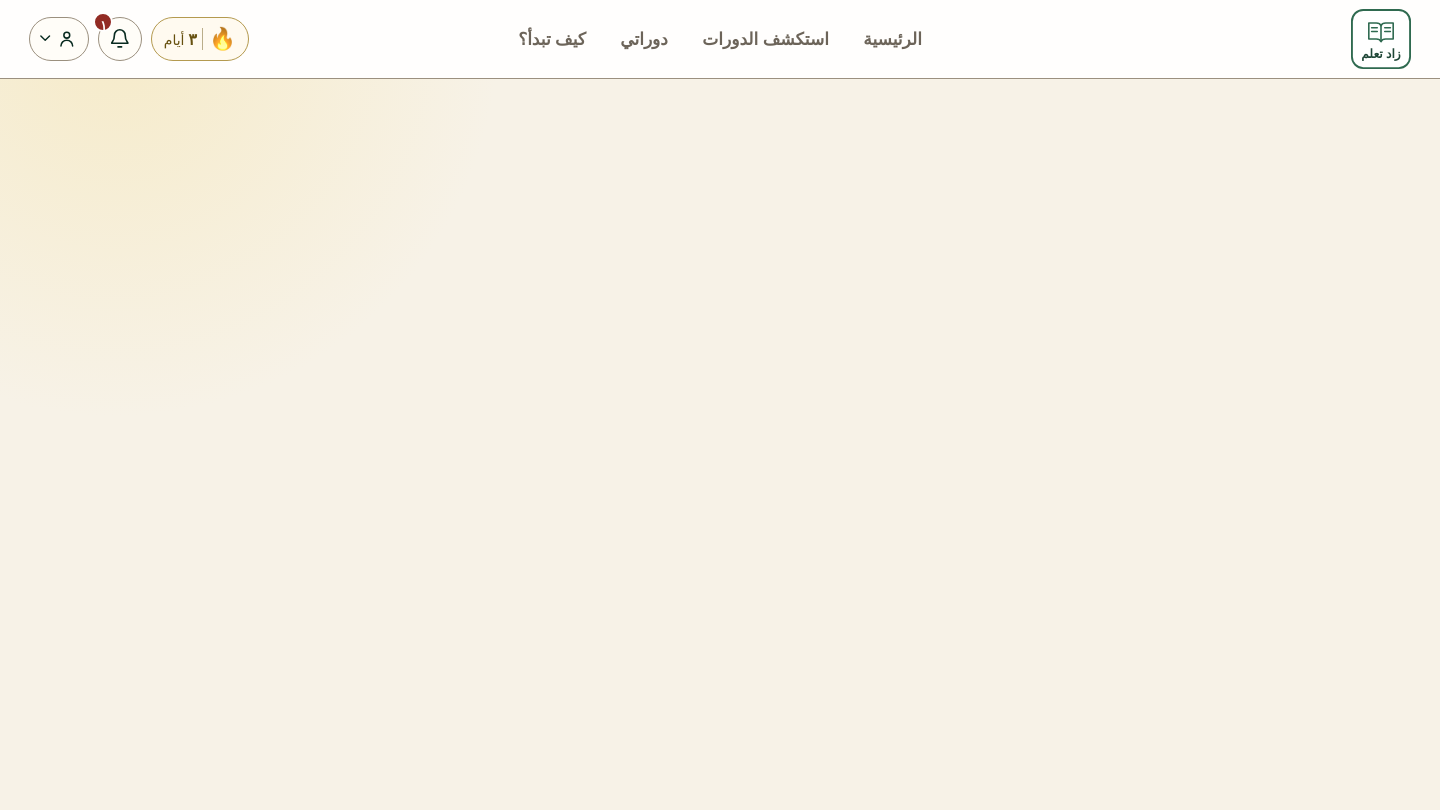
Test: StudentLayoutComponent notifications › keeps four primary links, removes favorites, and names the guide clearly
Expected: the navigation bar with class "student-nav" shows "كيف تبدأ؟", [504,14,600,64]
Click the button with class "account-trigger": point(59, 39) [29,17,89,61]
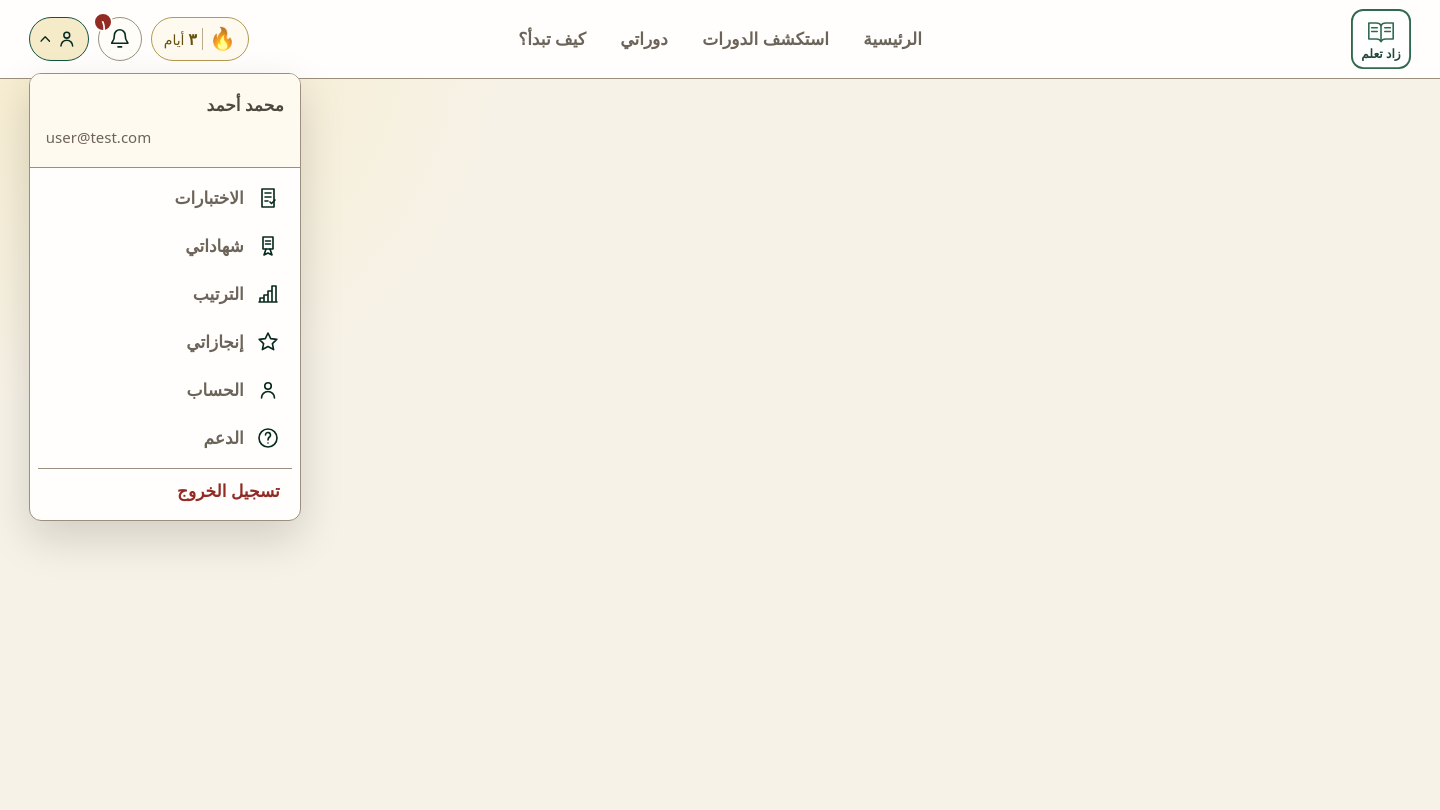
Now the element with class "account-panel" shows "شهاداتي", box [38,224,292,268]
Now the element with class "account-panel" shows "الترتيب", box [38,272,292,316]
Now the element with class "account-panel" shows "الحساب", box [38,368,292,412]
